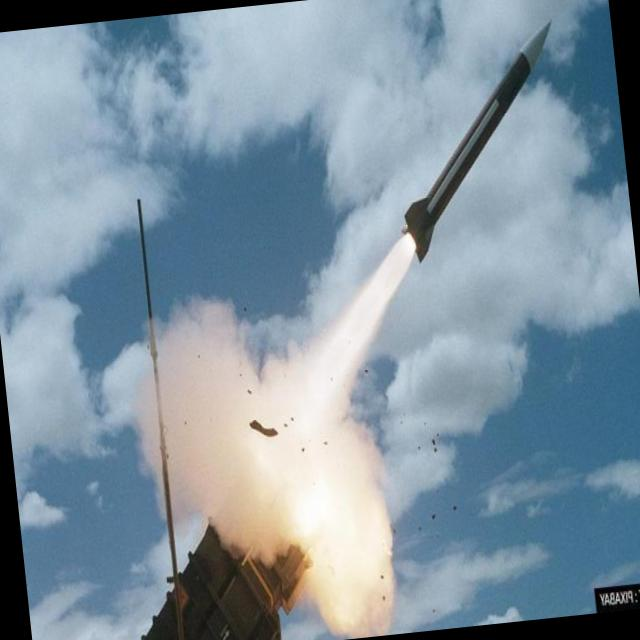rocket: (309, 19, 585, 373)
